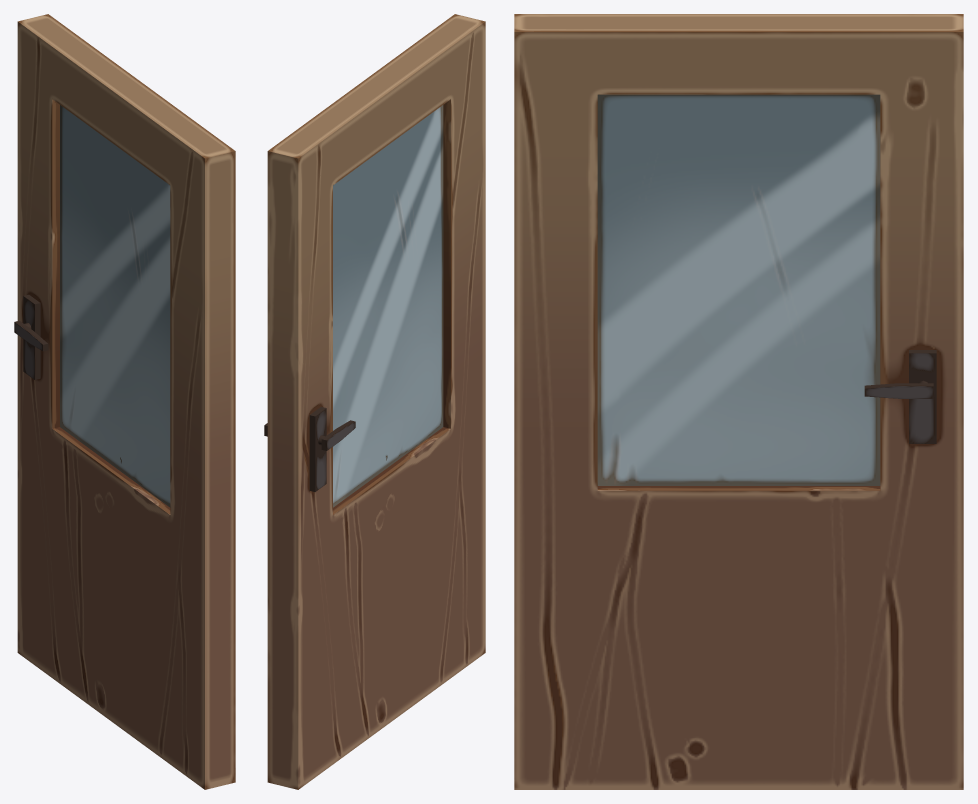
Rendered from door.fbx.
The picture shows the model from 3 angles, left to right: view 1: azimuth 30°, elevation 25°; view 2: azimuth 150°, elevation 25°; view 3: azimuth 270°, elevation 25°; orthographic projection. The views are drawn at different scales.
Parts seen in each view (by area): view 1: polySurface9; view 2: polySurface9; view 3: polySurface9.
Boxes of the visible parts, x1=… form: polySurface9: x1=14, y1=14, x2=235, y2=789; polySurface9: x1=264, y1=14, x2=485, y2=789; polySurface9: x1=514, y1=14, x2=963, y2=789.
Bounding box in the file's own units: 25.9 × 250 × 134.
